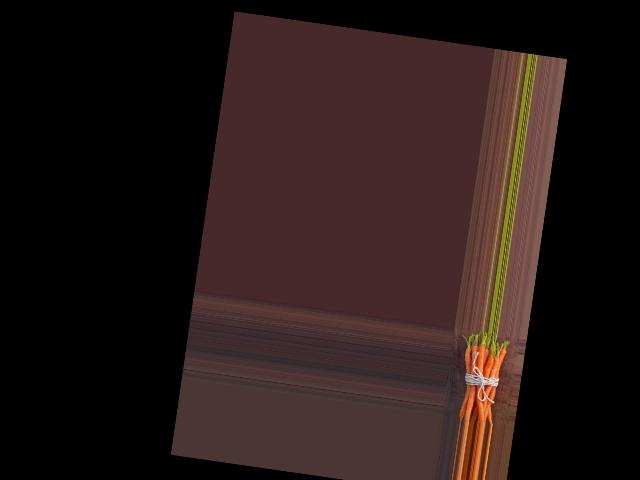carrot: (453, 339, 475, 419)
